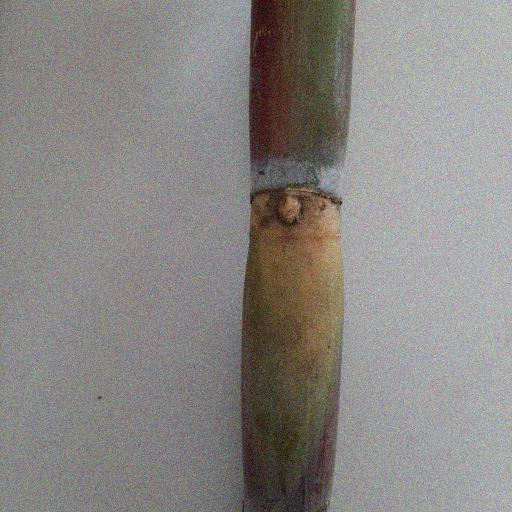Bud: (277, 192, 302, 225)
